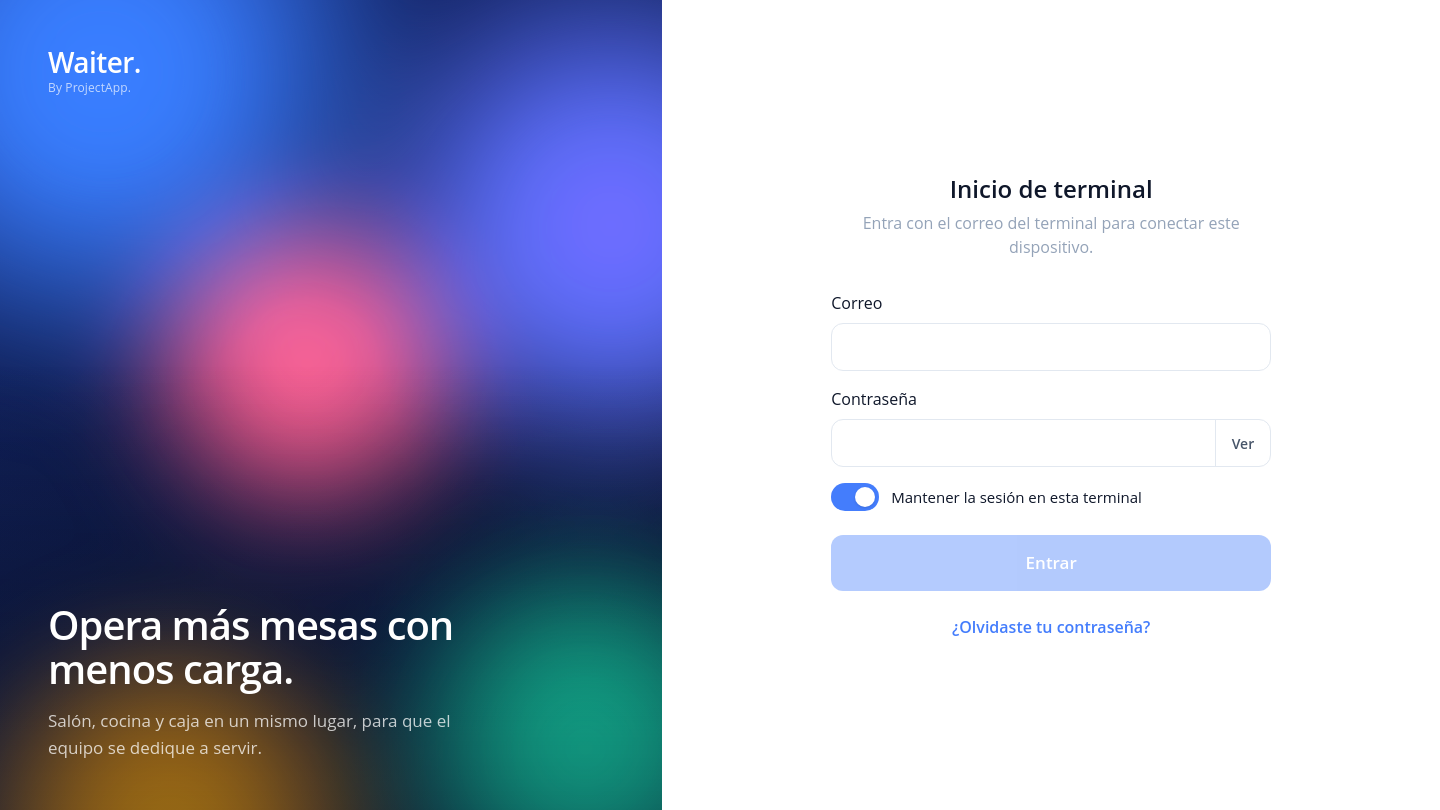
Test: tells the real reason when the failure is not a wrong credential
Step 1. Type "admin" into the field labelled "Correo" → (1051, 347), box 831,323 -> 1271,371
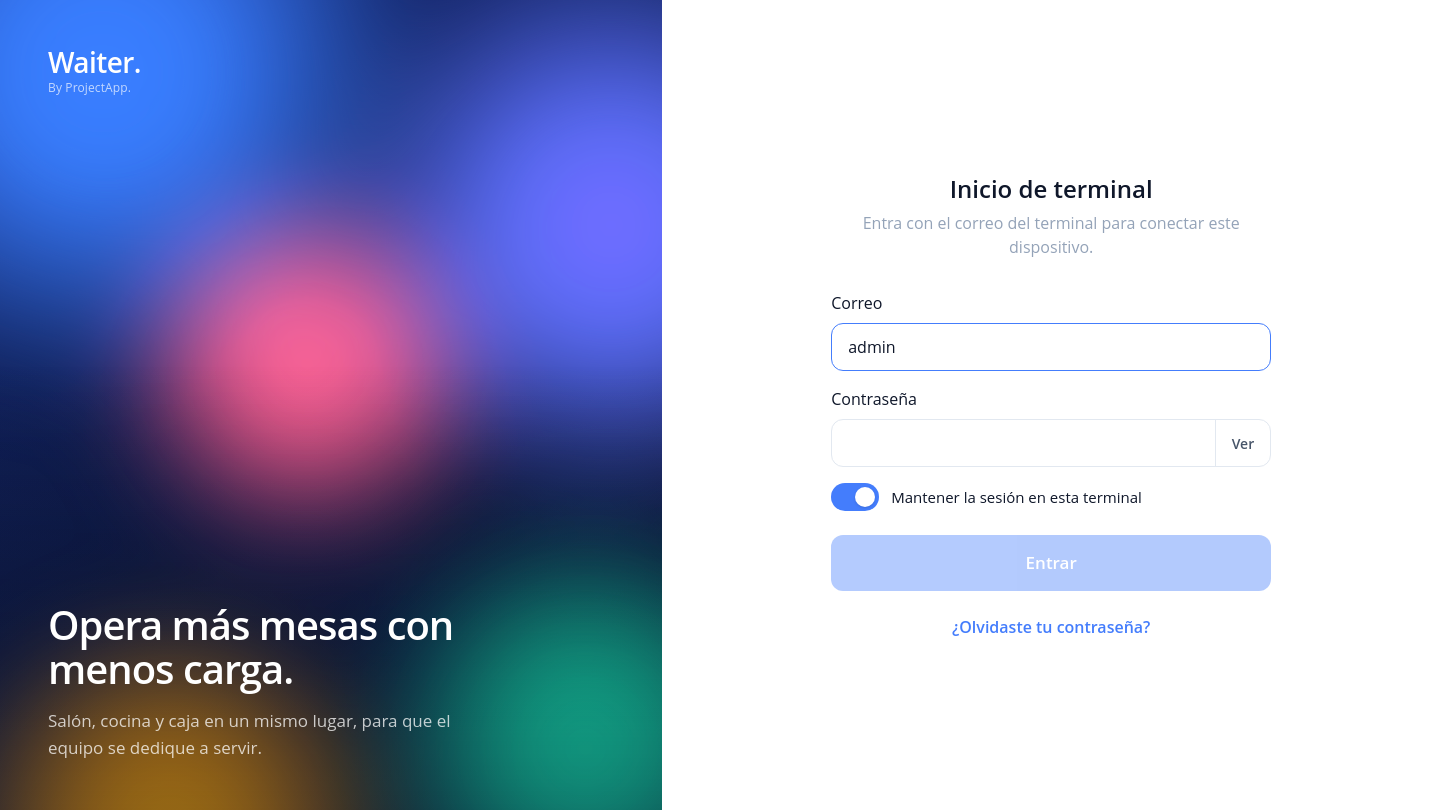
Step 2. Type "admin" into the password field labelled "Contraseña" → (1023, 443), box 832,420 -> 1215,466
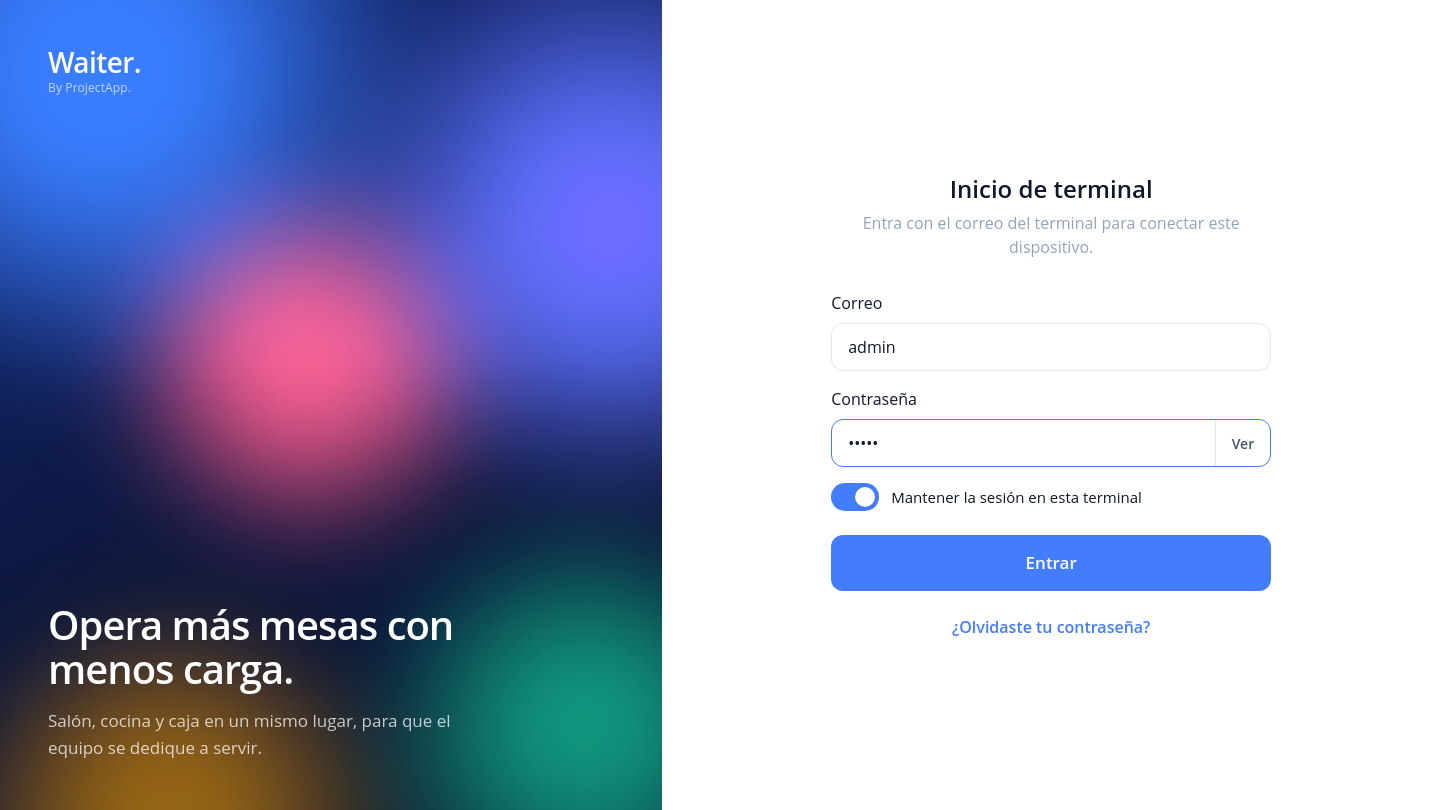
Step 3. Click the button "Entrar" → (1051, 563), box 831,535 -> 1271,591
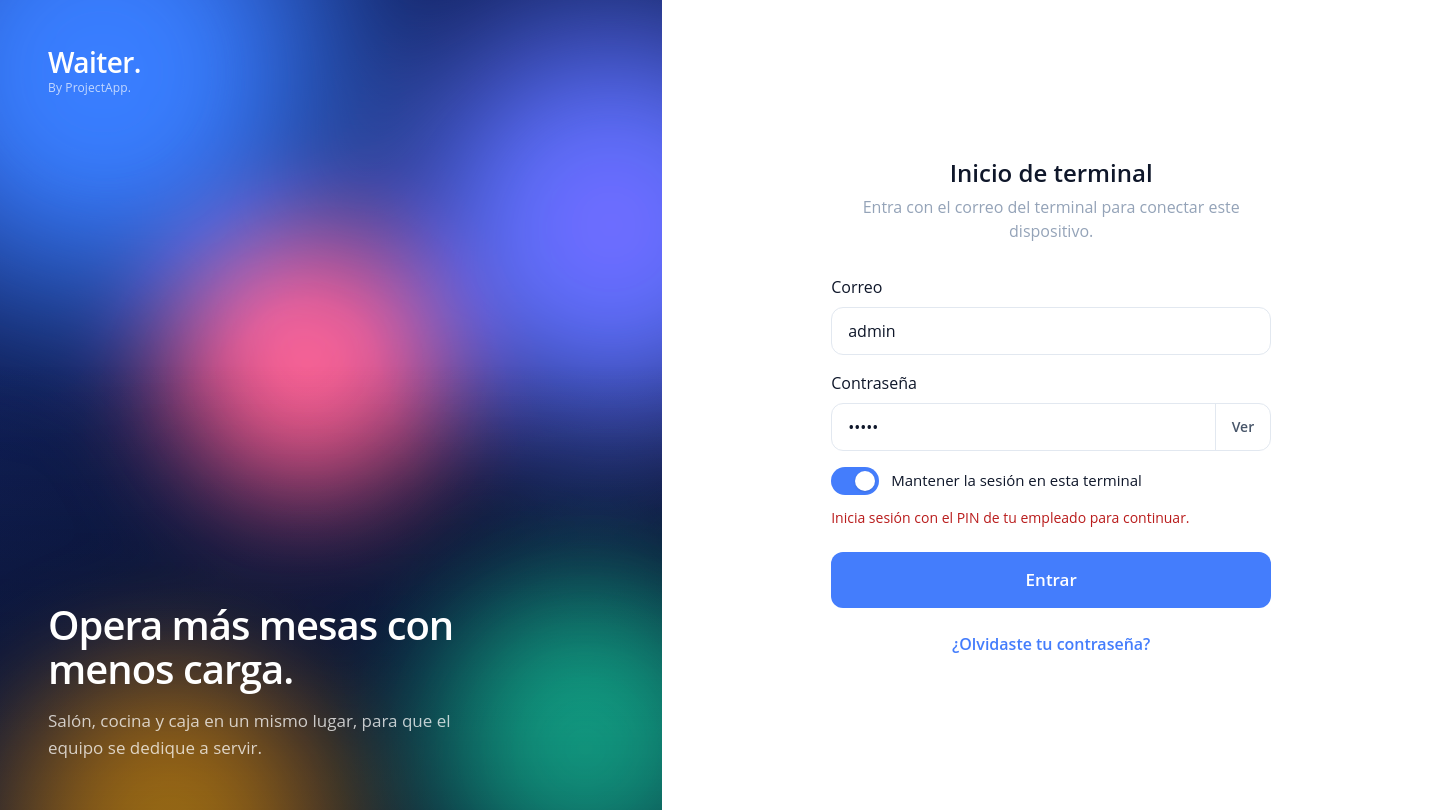
Expected: the message reads "Inicia sesión con el PIN de tu empleado para continuar.", 831,508 -> 1190,526
Step 4. Click the button "Entrar" → (1051, 580), box 831,552 -> 1271,608
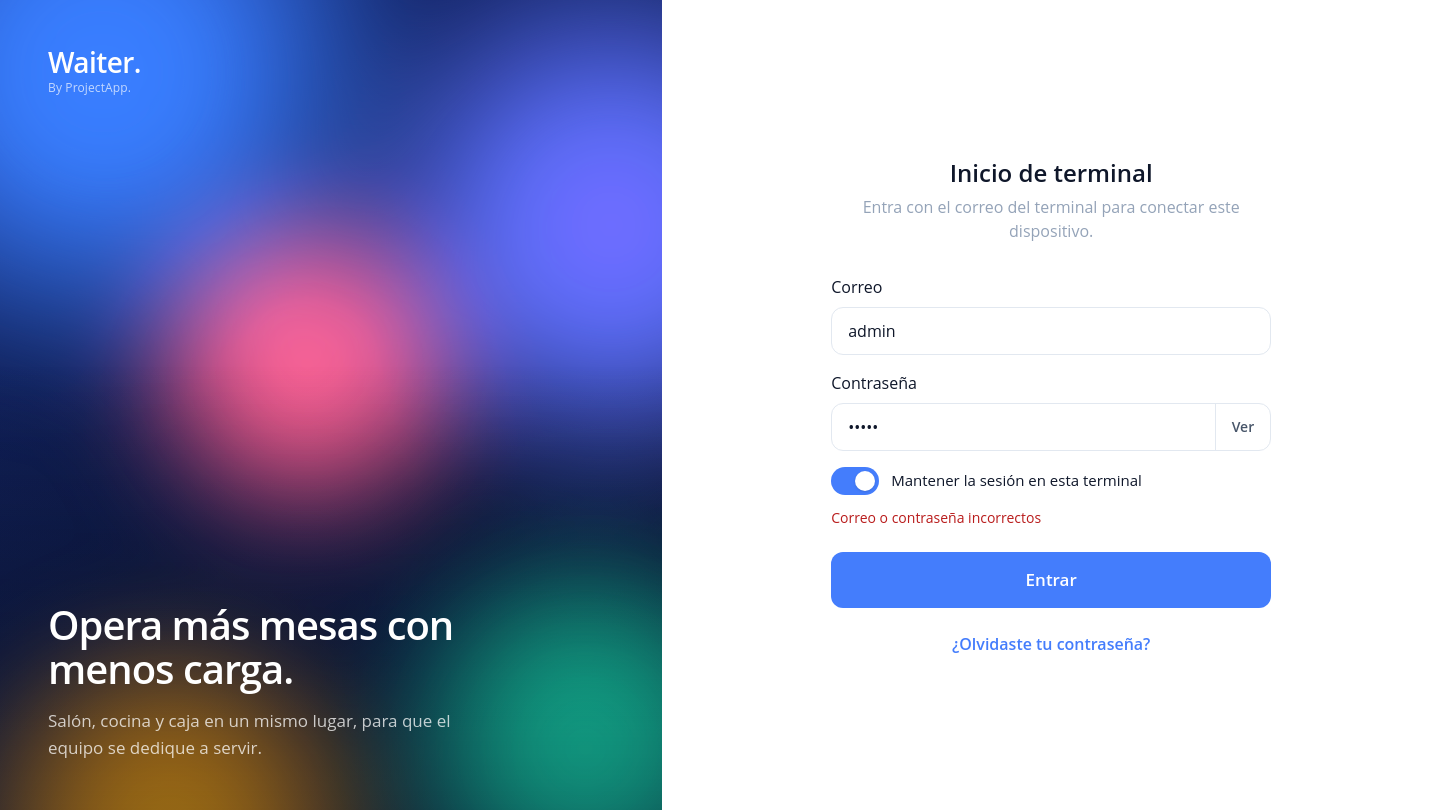
Expected: the message reads "Correo o contraseña incorrectos", 831,508 -> 1041,526
